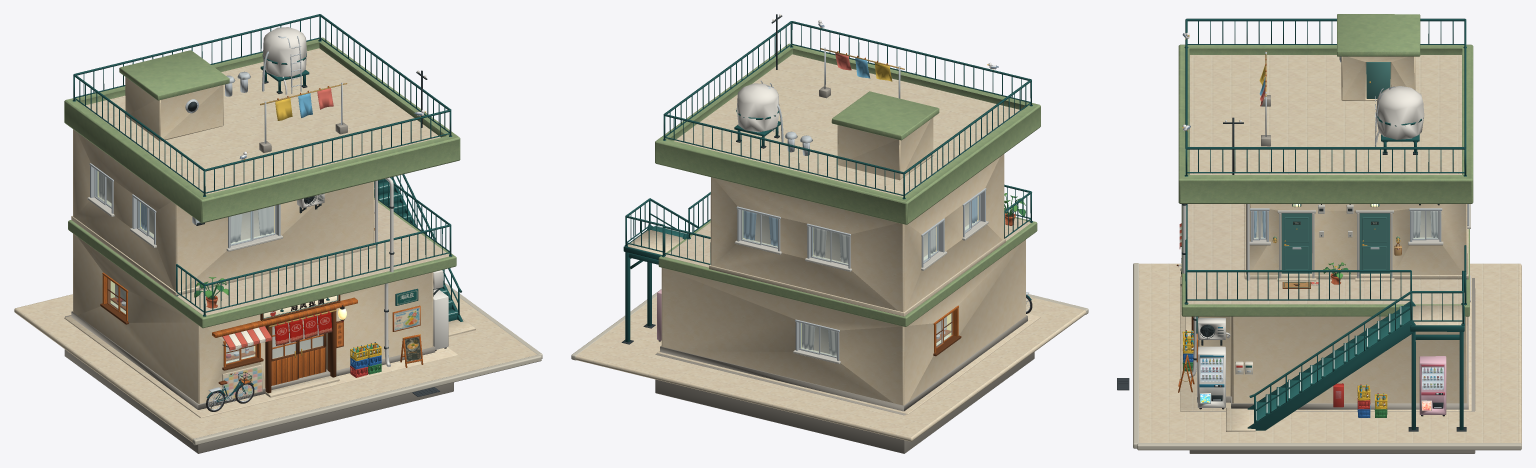
File: haikaze-hero-game.glb
3 views of the same model, side by side, from view 1: azimuth 30°, elevation 25°; view 2: azimuth 150°, elevation 25°; view 3: azimuth 270°, elevation 25° (orthographic). The views are drawn at different scales.
Parts seen in each view (by area): view 1: Haikaze_Arch_Deck_Cream, Haikaze_Arch_Plaster_Cream, Haikaze_Arch_Sage_Concrete, Haikaze_Game_Solid_Satin, Haikaze_Game_Solid_Matte, Haikaze_Game_Solid_Metal, Haikaze_Arch_Cedar_Warm, Haikaze_Arch_Window_Glass, Haikaze_Arch_Noren, Haikaze_Arch_Curtain_Cream, Haikaze_Arch_Mosaic_Tiles; view 2: Haikaze_Arch_Plaster_Cream, Haikaze_Arch_Deck_Cream, Haikaze_Arch_Sage_Concrete, Haikaze_Game_Solid_Satin, Haikaze_Game_Solid_Matte, Haikaze_Arch_Window_Glass, Haikaze_Game_Solid_Metal, Haikaze_Arch_Curtain_Cream, Haikaze_Arch_Curtain_Blue, Haikaze_Arch_Cedar_Warm; view 3: Haikaze_Arch_Deck_Cream, Haikaze_Game_Solid_Satin, Haikaze_Arch_Plaster_Cream, Haikaze_Arch_Sage_Concrete, Haikaze_Game_Solid_Matte, Haikaze_Game_Solid_Metal, Haikaze_Arch_Window_Glass, Haikaze_Emissive_Vending, Haikaze_Arch_Curtain_Cream.
Boxes of the visible parts, <box> form: Haikaze_Arch_Deck_Cream: <box>14,48,537,442</box>; Haikaze_Arch_Plaster_Cream: <box>73,77,433,403</box>; Haikaze_Arch_Sage_Concrete: <box>64,37,460,328</box>; Haikaze_Game_Solid_Satin: <box>72,14,463,401</box>; Haikaze_Game_Solid_Matte: <box>64,88,542,453</box>; Haikaze_Game_Solid_Metal: <box>89,36,441,410</box>; Haikaze_Arch_Cedar_Warm: <box>102,86,423,385</box>; Haikaze_Arch_Window_Glass: <box>95,170,323,363</box>; Haikaze_Arch_Noren: <box>274,311,332,345</box>; Haikaze_Arch_Curtain_Cream: <box>98,172,273,243</box>; Haikaze_Arch_Mosaic_Tiles: <box>224,366,262,400</box>; Haikaze_Arch_Plaster_Cream: <box>661,117,1025,405</box>; Haikaze_Arch_Deck_Cream: <box>575,54,1086,441</box>; Haikaze_Arch_Sage_Concrete: <box>655,43,1040,326</box>; Haikaze_Game_Solid_Satin: <box>623,14,1032,364</box>; Haikaze_Game_Solid_Matte: <box>571,20,1088,453</box>; Haikaze_Arch_Window_Glass: <box>742,195,979,356</box>; Haikaze_Game_Solid_Metal: <box>621,14,1030,360</box>; Haikaze_Arch_Curtain_Cream: <box>801,227,936,356</box>; Haikaze_Arch_Curtain_Blue: <box>743,197,977,246</box>; Haikaze_Arch_Cedar_Warm: <box>837,51,958,352</box>; Haikaze_Arch_Deck_Cream: <box>1139,55,1521,443</box>; Haikaze_Game_Solid_Satin: <box>1182,18,1470,430</box>; Haikaze_Arch_Plaster_Cream: <box>1198,56,1467,403</box>; Haikaze_Arch_Sage_Concrete: <box>1178,14,1473,316</box>; Haikaze_Game_Solid_Matte: <box>1133,32,1521,453</box>; Haikaze_Game_Solid_Metal: <box>1117,51,1468,431</box>; Haikaze_Arch_Window_Glass: <box>1200,211,1443,397</box>; Haikaze_Emissive_Vending: <box>1200,358,1443,394</box>; Haikaze_Arch_Curtain_Cream: <box>1311,211,1437,285</box>.
Size of the model in its own units: 11.9 by 10.03 by 11.15.
28 materials, 15 textured.
